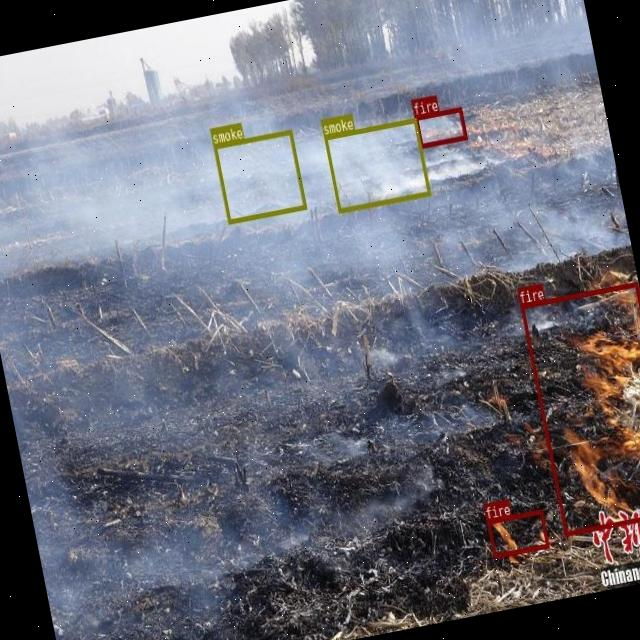fire: (520, 281, 640, 535), (486, 508, 550, 558), (414, 108, 466, 148)
smoke: (324, 119, 430, 212), (212, 129, 306, 224)
